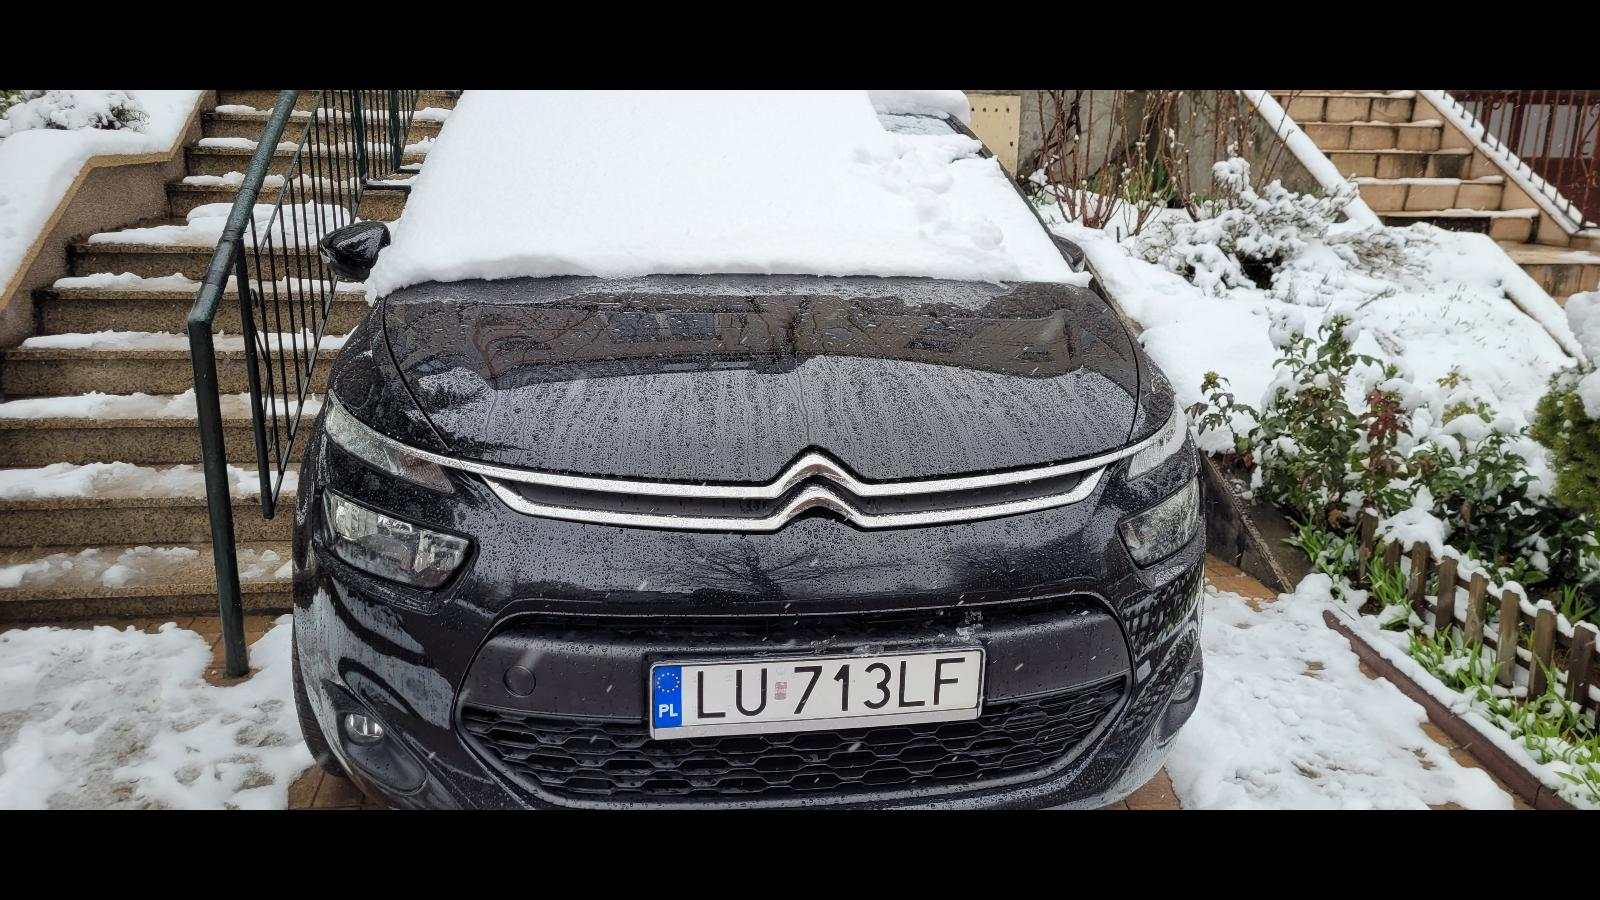plates: (650, 648, 986, 740)
